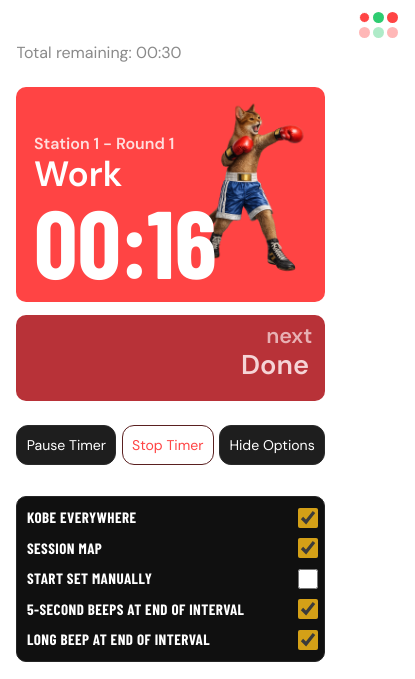
Test: RunningTimerPage › shows map by default and toggles it on and off
The image size is (415, 679).
Expected: the heading "Work" is shown, left=34, top=151, right=122, bottom=197
Expected: the element with class "run-session-map" is shown, left=335, top=12, right=392, bottom=38
Click the checkbox named "Show session map" at (308, 548), box left=298, top=538, right=318, bottom=558
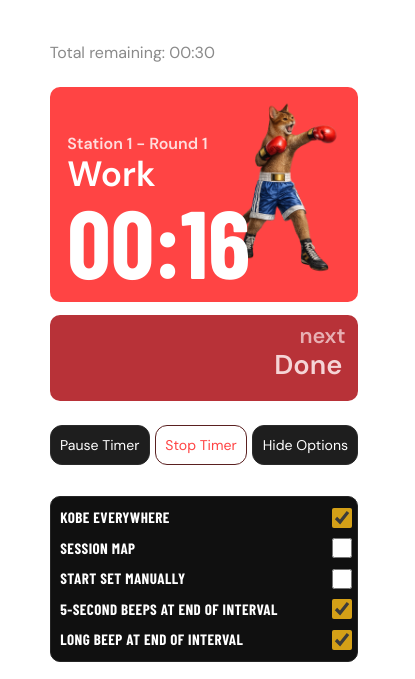
Now the element with class "run-session-map" is gone
Click the checkbox named "Show session map" at (342, 548), box left=332, top=538, right=352, bottom=558
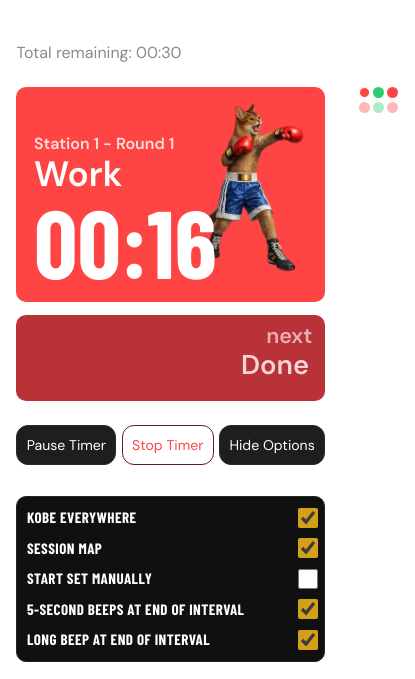
Now the element with class "run-session-map" is shown, box left=337, top=86, right=398, bottom=112
